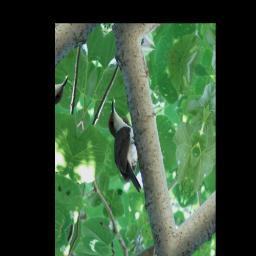Cuckoo: (94, 97, 160, 195)
